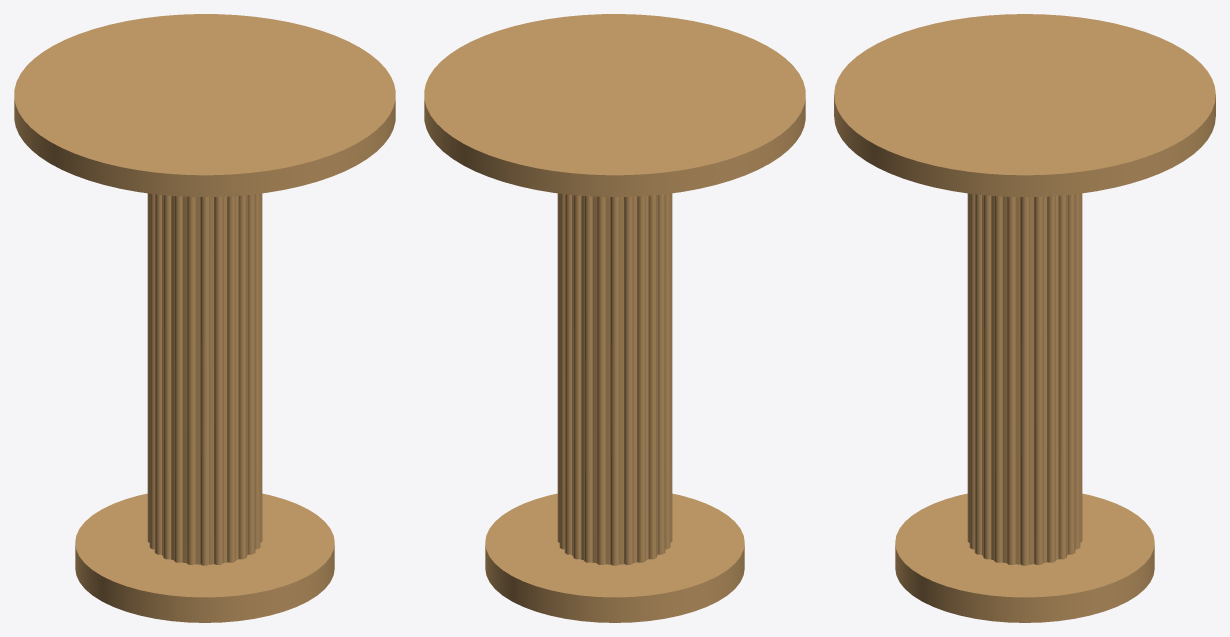
The model's file is apartment-bedside-round-pedestal.glb.
3 views of the same model, side by side, from view 1: azimuth 30°, elevation 25°; view 2: azimuth 150°, elevation 25°; view 3: azimuth 270°, elevation 25° (orthographic).
Parts seen in each view (by area): view 1: apartment-bedside-round-pedestal authored assembly; view 2: apartment-bedside-round-pedestal authored assembly; view 3: apartment-bedside-round-pedestal authored assembly.
Part boxes in pixels (left/top/right/bottom): apartment-bedside-round-pedestal authored assembly: left=14, top=14, right=395, bottom=622; apartment-bedside-round-pedestal authored assembly: left=424, top=14, right=805, bottom=622; apartment-bedside-round-pedestal authored assembly: left=834, top=14, right=1215, bottom=622.
Bounding box in the file's own units: 0.38 × 0.52 × 0.38.
